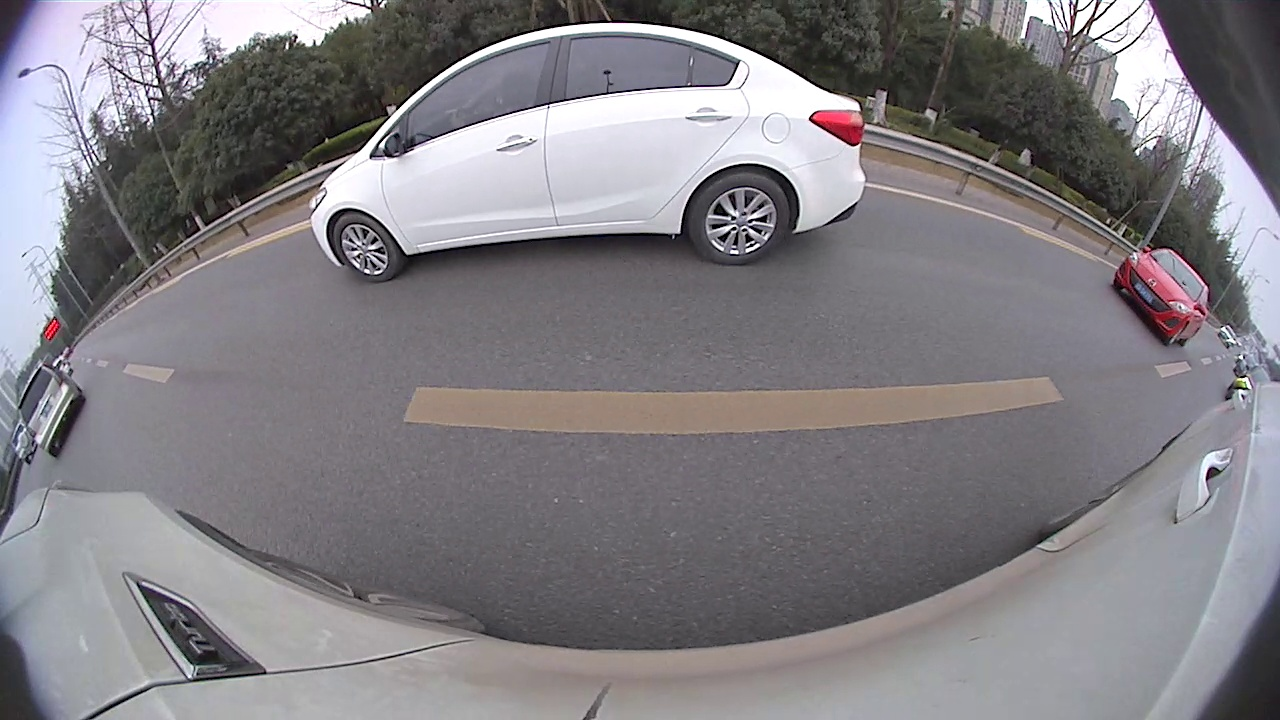car: (1050, 253, 1279, 525), (591, 144, 650, 196), (530, 160, 581, 196), (489, 167, 530, 198), (641, 153, 664, 184)
front: (1095, 361, 1232, 524)
